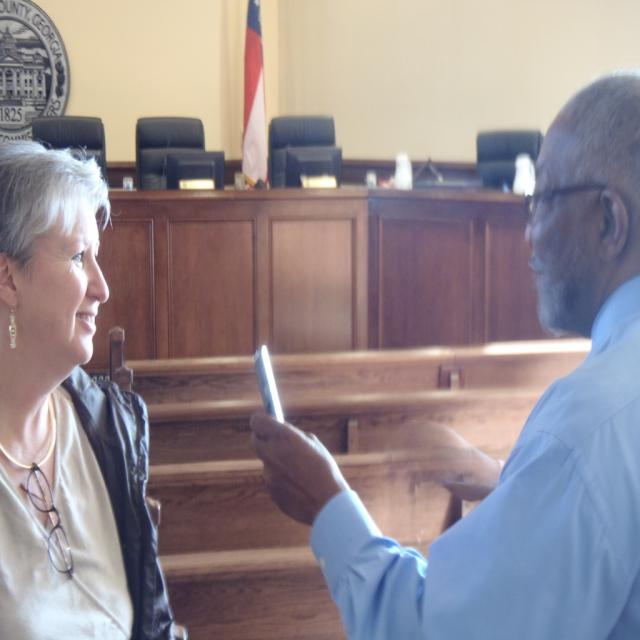desk: (93, 191, 544, 375)
person: (249, 86, 639, 636)
